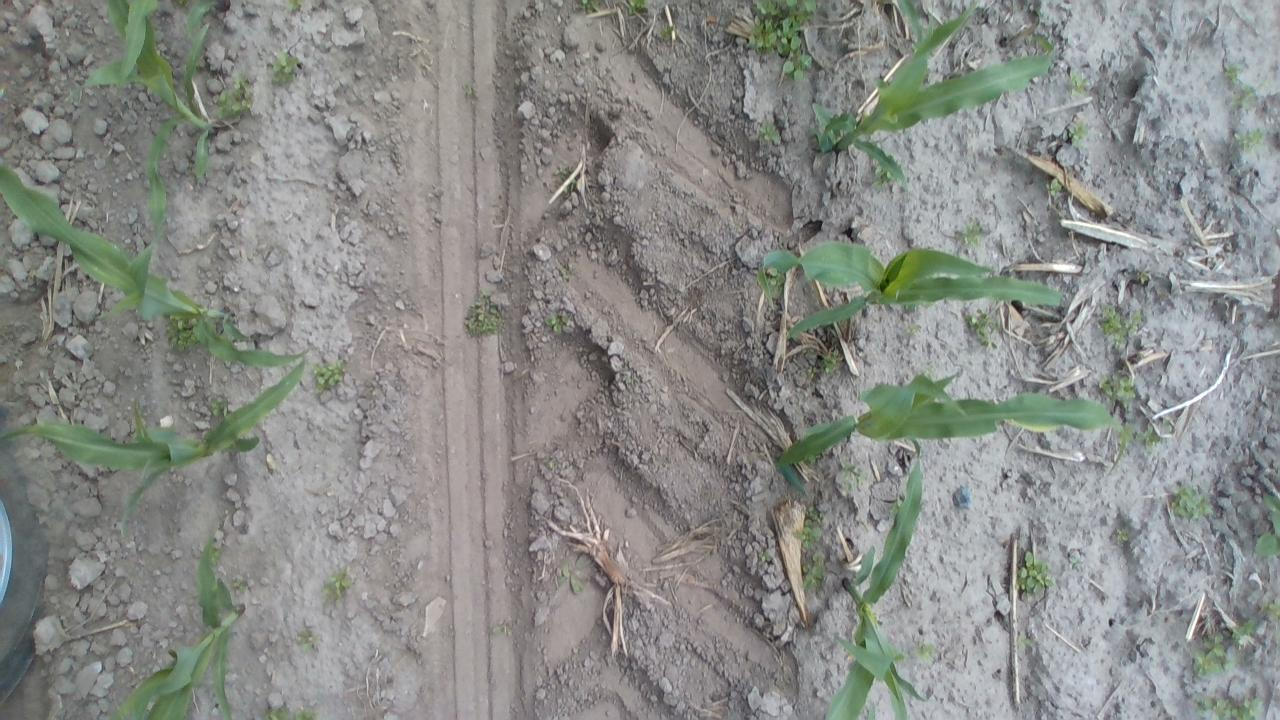Maize: (0, 154, 312, 366), (0, 358, 316, 534), (768, 360, 1130, 502), (813, 0, 1058, 198), (98, 2, 235, 326), (752, 232, 1074, 347), (824, 441, 932, 720), (111, 526, 250, 720), (90, 3, 160, 85), (883, 0, 934, 54), (181, 1, 235, 38)
Weeds: (749, 0, 820, 85), (1096, 303, 1146, 347), (464, 290, 506, 340), (1192, 692, 1265, 720), (213, 74, 256, 121), (1252, 490, 1280, 560), (1167, 483, 1213, 524), (1014, 550, 1054, 596), (1190, 635, 1229, 678), (1097, 369, 1138, 406), (164, 316, 199, 358), (311, 358, 348, 397), (965, 306, 997, 348), (320, 565, 354, 603), (558, 556, 590, 596), (799, 552, 828, 594), (796, 507, 823, 551), (268, 49, 300, 86), (808, 346, 842, 380), (836, 458, 866, 496), (1232, 128, 1268, 158), (956, 219, 986, 250), (262, 704, 319, 720), (618, 358, 644, 391), (1066, 117, 1092, 148), (1064, 67, 1090, 98), (1228, 620, 1258, 646), (1230, 85, 1258, 112), (543, 311, 575, 334), (1138, 422, 1164, 450), (294, 627, 320, 653), (757, 121, 782, 146), (874, 161, 895, 190), (1222, 58, 1242, 87), (1114, 419, 1142, 439), (914, 639, 938, 662), (768, 266, 786, 296), (208, 395, 228, 421), (1044, 175, 1065, 199), (903, 322, 926, 343), (1132, 268, 1156, 288), (491, 619, 516, 638), (1262, 597, 1280, 621), (462, 81, 480, 103), (1016, 633, 1036, 652), (1066, 553, 1084, 574), (1112, 526, 1131, 544), (575, 0, 603, 12), (629, 0, 651, 15), (560, 264, 578, 282), (542, 454, 556, 477), (889, 498, 905, 518), (209, 546, 223, 568), (232, 577, 248, 595), (660, 22, 676, 40), (756, 546, 772, 564), (285, 0, 307, 12), (556, 165, 570, 183), (1164, 415, 1178, 431)
